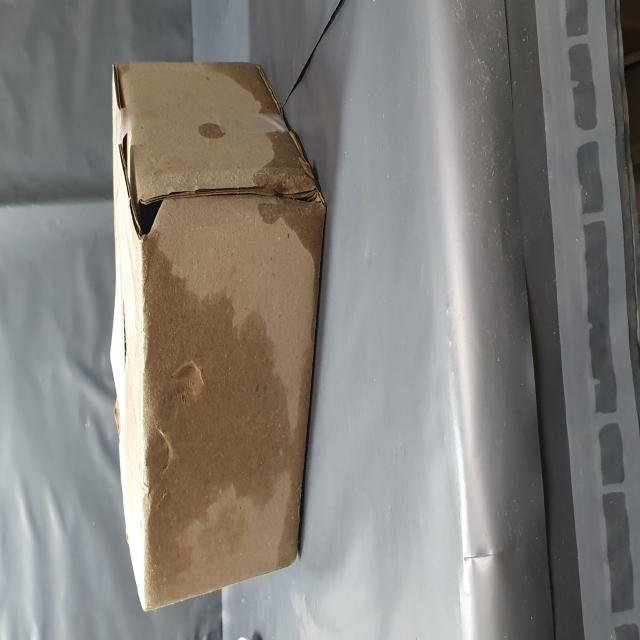damaged: (228, 243, 263, 327)
wet: (21, 266, 219, 507), (210, 457, 287, 581), (294, 376, 329, 496)
